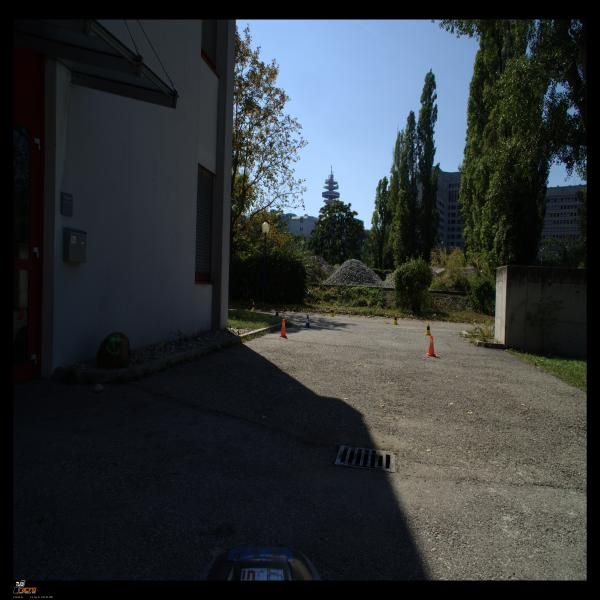blue_cone: (304, 315, 311, 328), (274, 312, 279, 317)
orange_cone: (425, 335, 437, 357), (279, 319, 287, 338)
yellow_cone: (424, 322, 432, 336), (393, 313, 398, 325), (329, 307, 334, 317), (251, 302, 256, 311)
